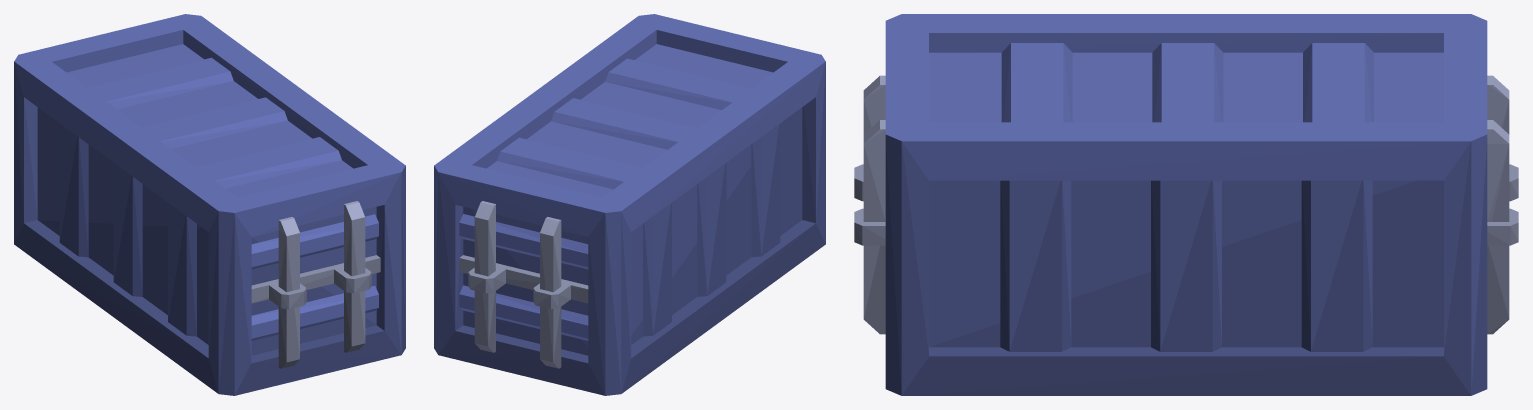
The model's file is container_b.glb.
The picture shows the model from 3 angles, left to right: view 1: azimuth 30°, elevation 25°; view 2: azimuth 150°, elevation 25°; view 3: azimuth 270°, elevation 25°; orthographic projection. The views are drawn at different scales.
Parts seen in each view (by area): view 1: container_b; view 2: container_b; view 3: container_b.
Part boxes in pixels (bbox=[...]): container_b: bbox=[14, 14, 405, 395]; container_b: bbox=[434, 14, 825, 395]; container_b: bbox=[854, 14, 1518, 395].
Size of the model in its own units: 0.3726 by 0.3481 by 0.8226.
